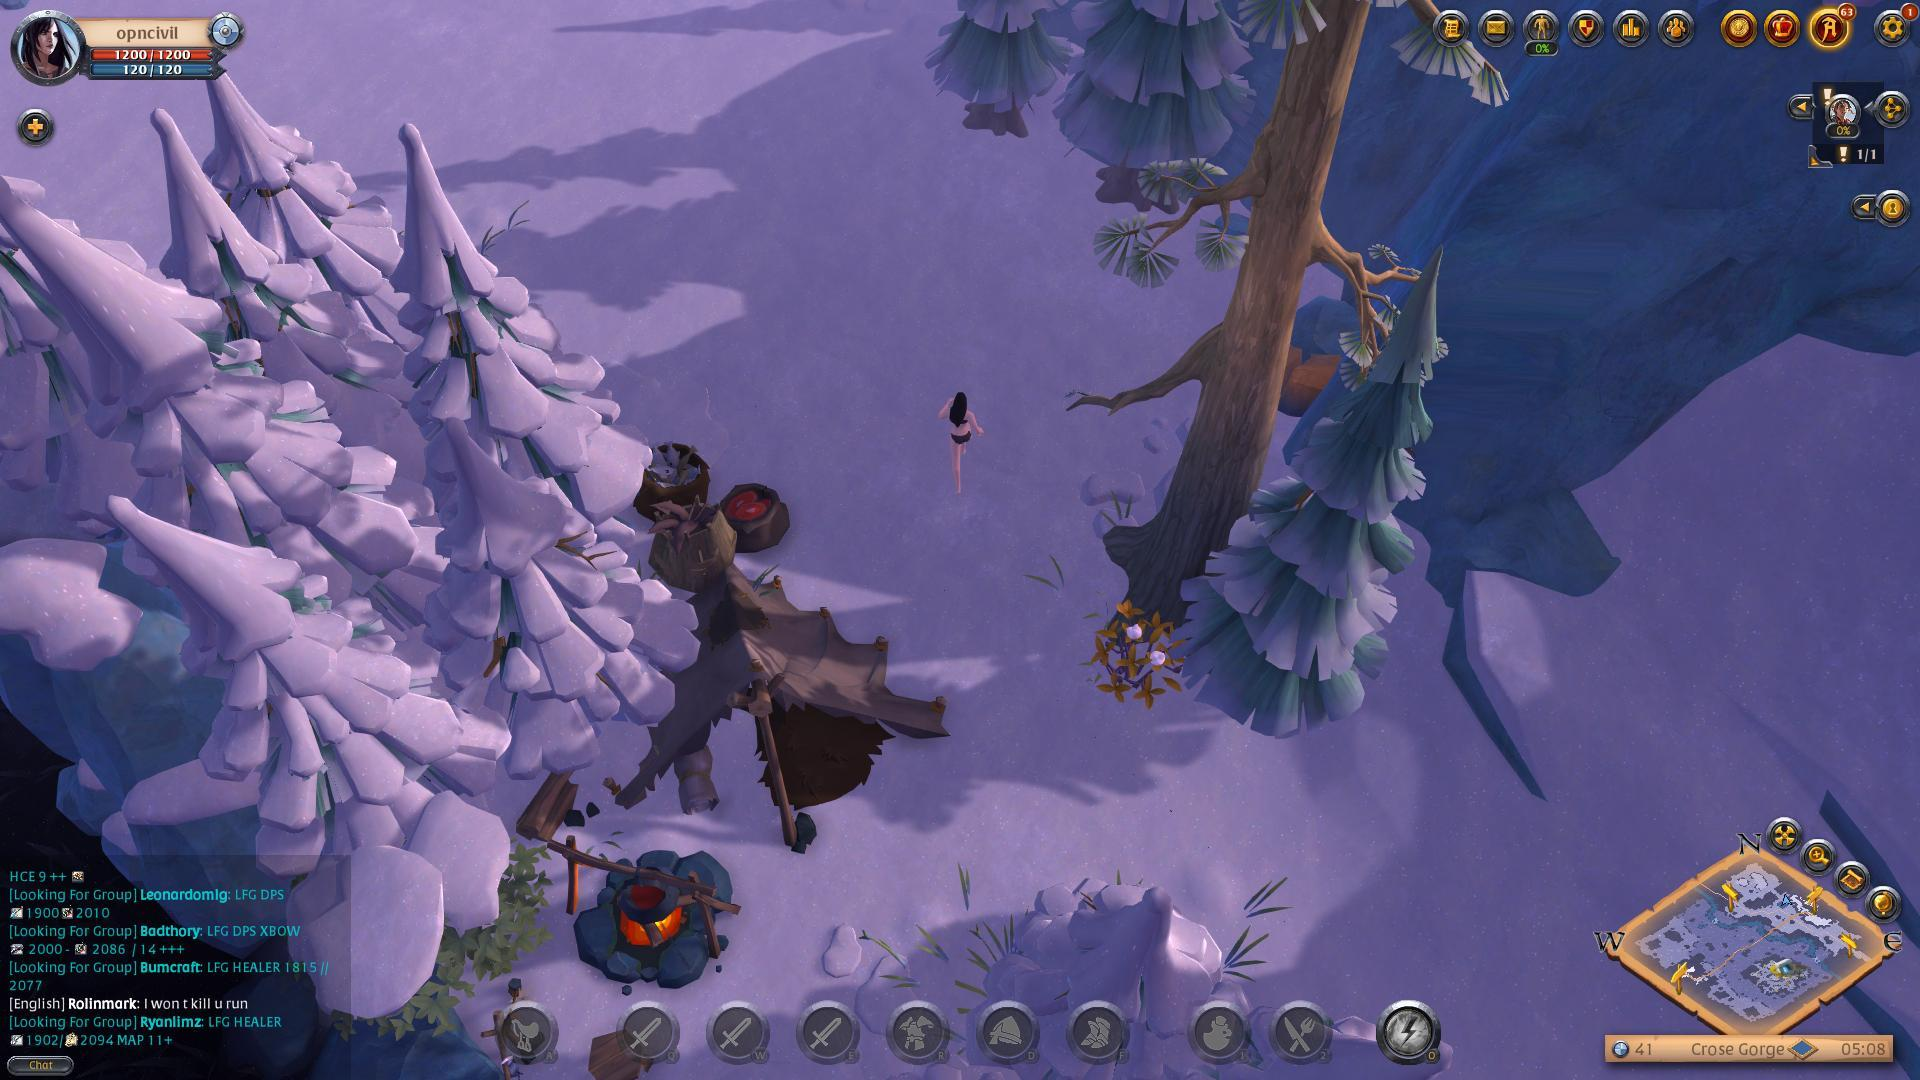cotton: (1089, 607, 1213, 708)
